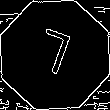L_S: (32, 26, 78, 84)
